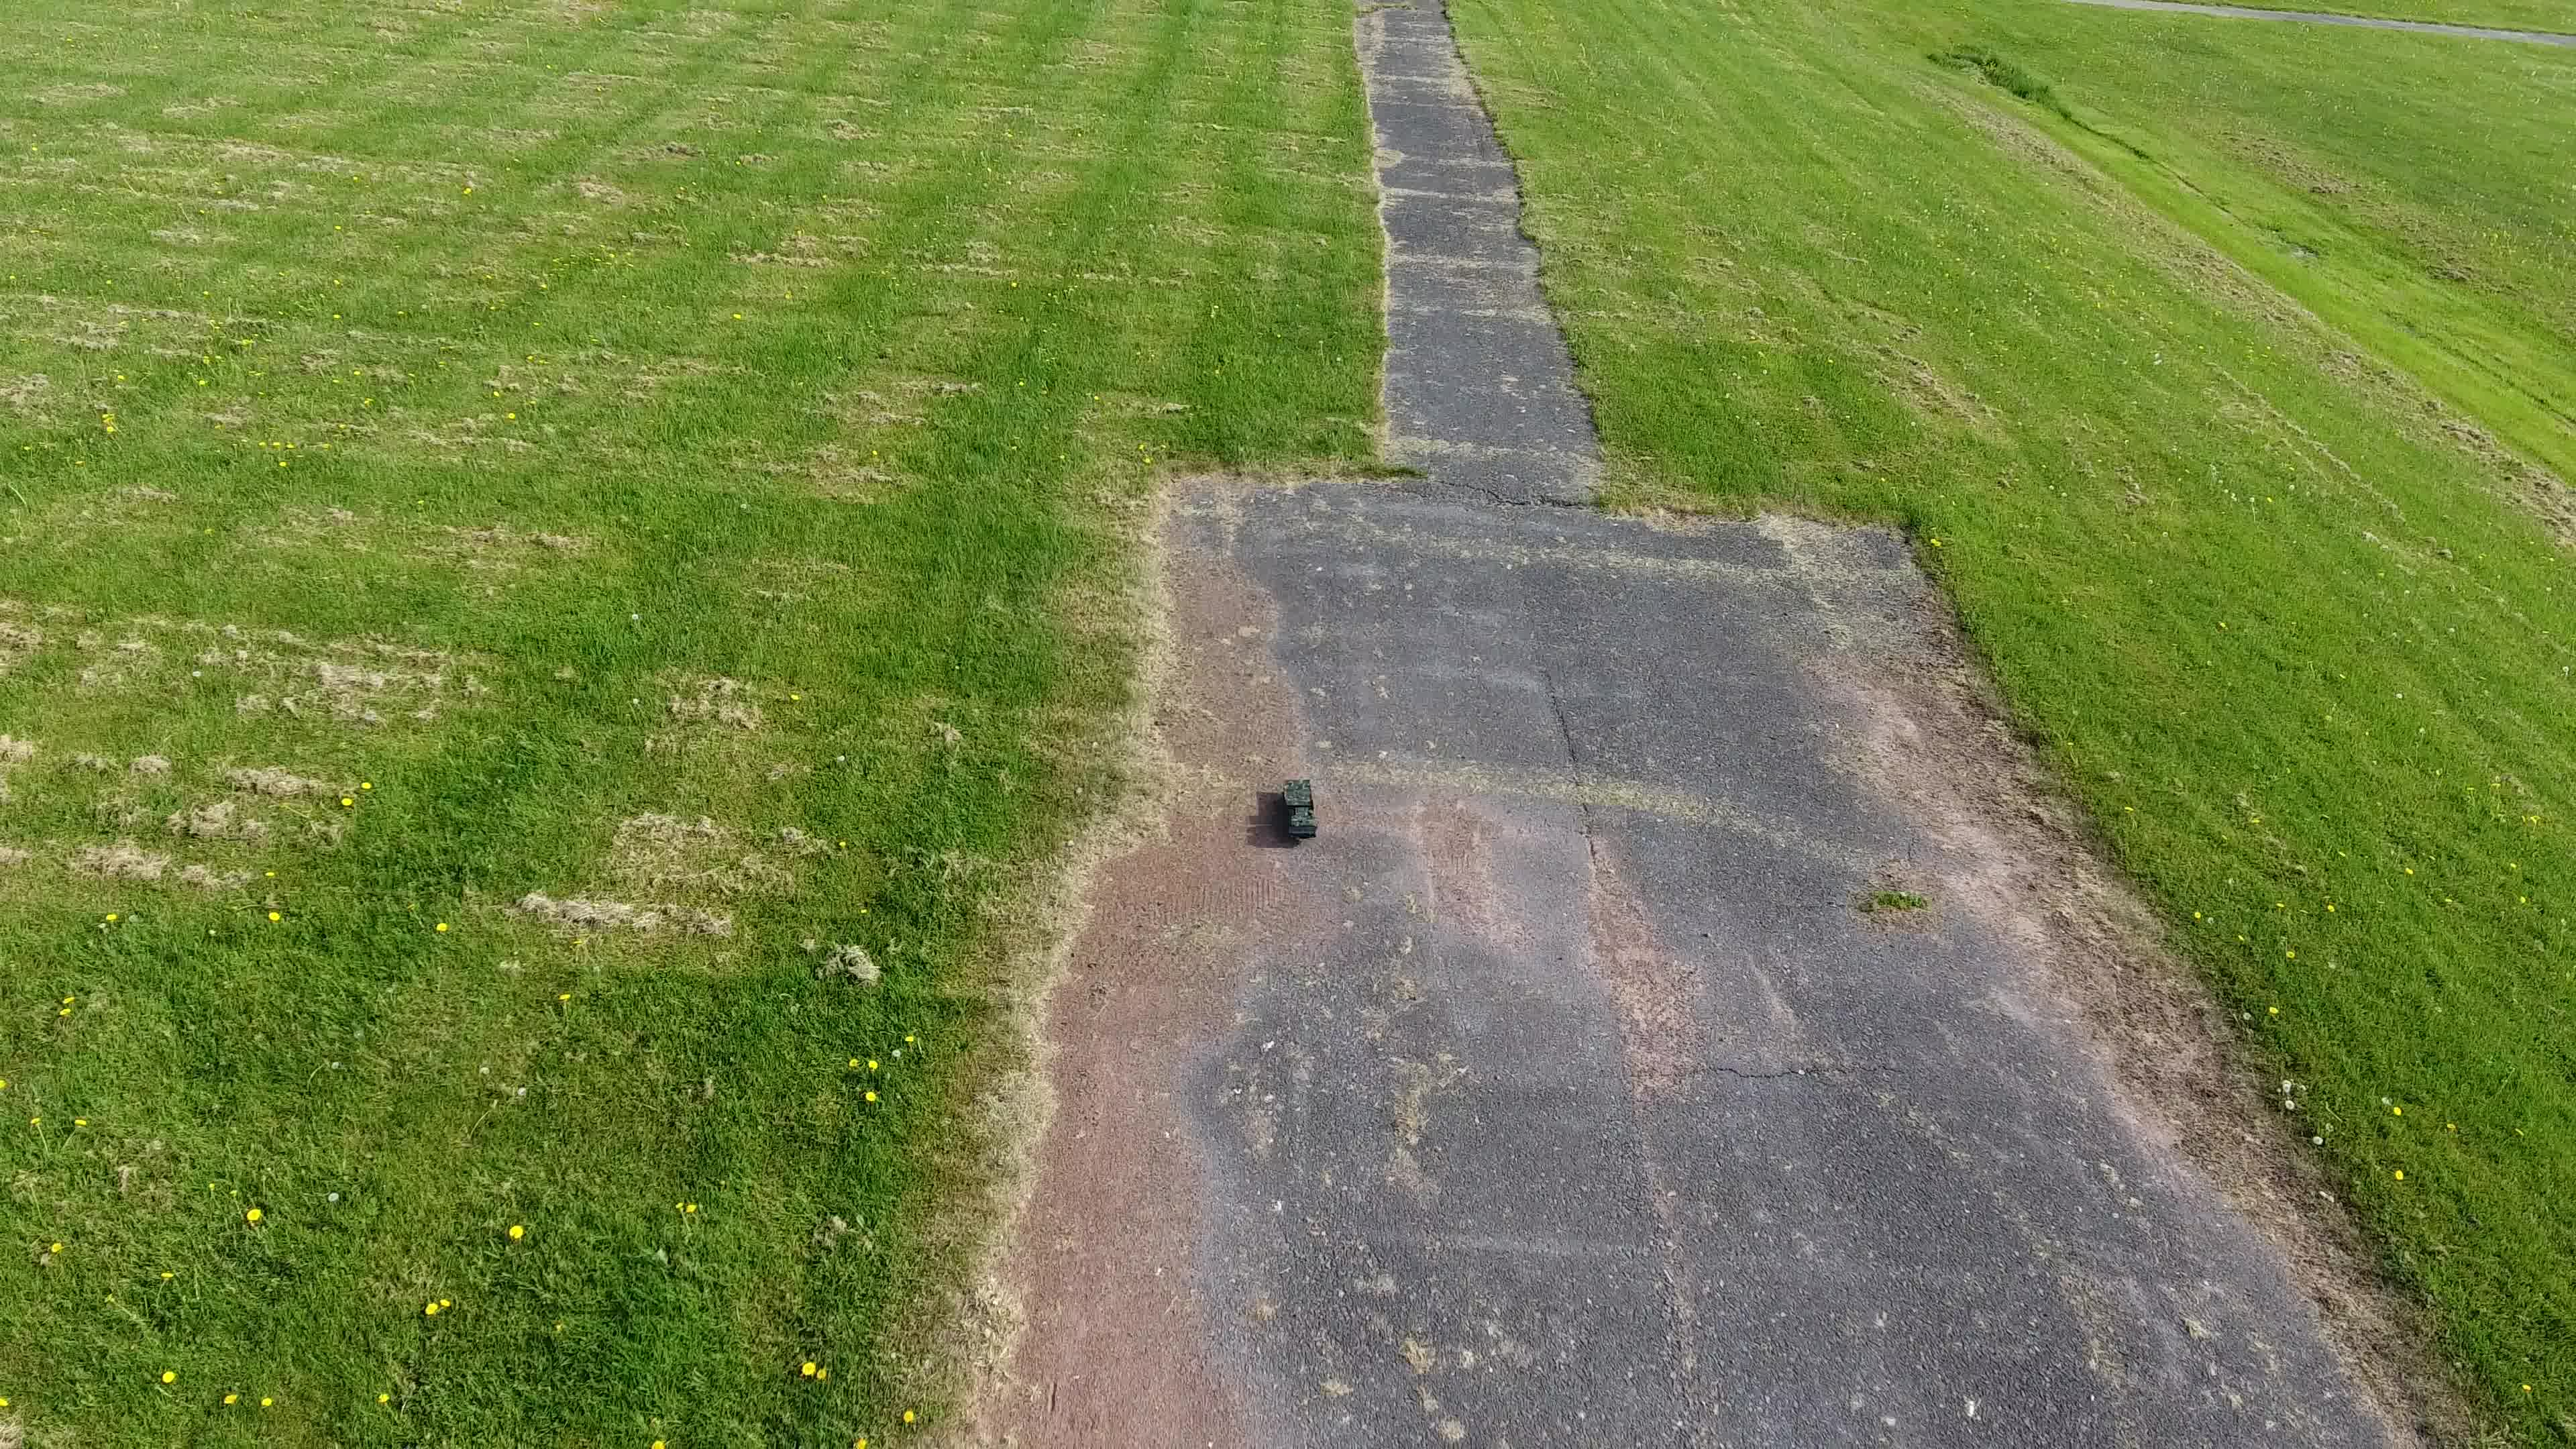transporter9: (1281, 777, 1320, 840)
